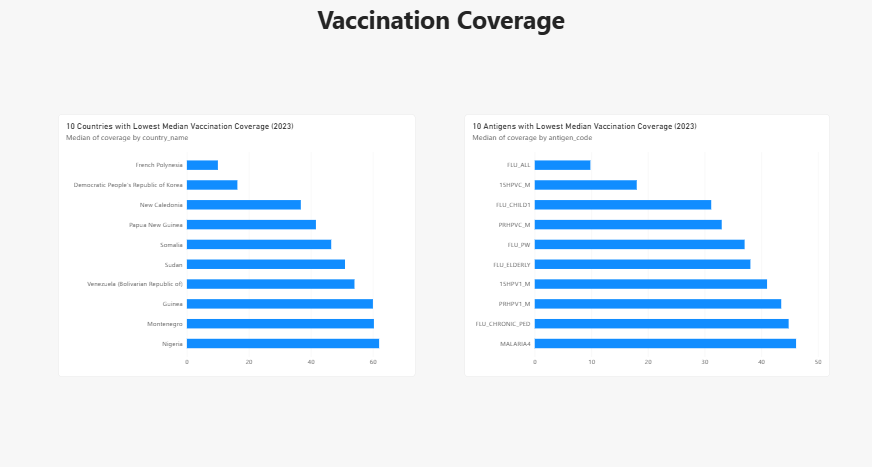

The page's visual inventory and layout, read from the dashboard file:
{"tool":"powerbi","page":{"name":"Vaccination Coverage","canvas":[1920,1080],"ordinal":1},"visuals":[{"type":"textbox","box":[10,33.3,1910,150],"z":0},{"type":"clusteredBarChart","title":"10 Countries with Lowest Median Vaccination Coverage (2023)","fields":{"Category":["Countries.country_name"],"Y":["Median(Coverage.coverage)"]},"box":[134.3,274.3,777.1,571.4],"z":1},{"type":"clusteredBarChart","title":"10 Antigens with Lowest Median Vaccination Coverage (2023)","fields":{"Category":["Vaccines.antigen_code"],"Y":["Median(Coverage.coverage)"]},"box":[1017.1,274.3,794.3,571.4],"z":2}]}

Visuals, with their boxes on the page's 1920x1080 design canvas (x1, y1, x2, y2). These are canvas units, not pixel positions in the 872x467 screenshot, which may show the page scaled, cropped or inside an application window:
textbox: x1=10 y1=33 x2=1920 y2=183
"10 Countries with Lowest Median Vaccination Coverage (2023)" clusteredBarChart: x1=134 y1=274 x2=911 y2=846
"10 Antigens with Lowest Median Vaccination Coverage (2023)" clusteredBarChart: x1=1017 y1=274 x2=1811 y2=846
